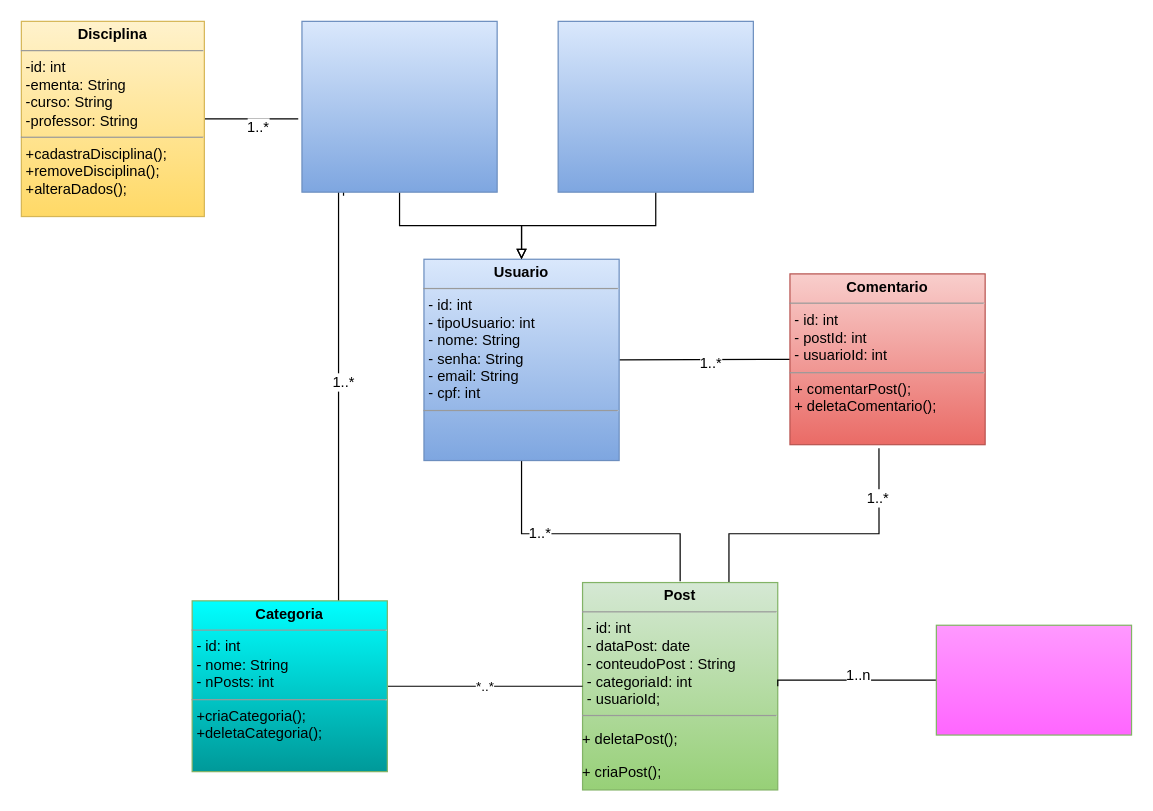
Image size: 1153x811. Some labels were removed from this diagram. Here are the shapes that lost their labels. From the top down, the centre of each, then its label:
At [399,106]: "Administrador - cadastro: int + cadastrarUsuario(); + verificaAdmin ();".
At [655,106]: "Aluno - curso: int - matricula: int + efetuarCadastro(); +alteraCadastro();".
At [1033,679]: "Notifica -id: int + enviaEmail();".
